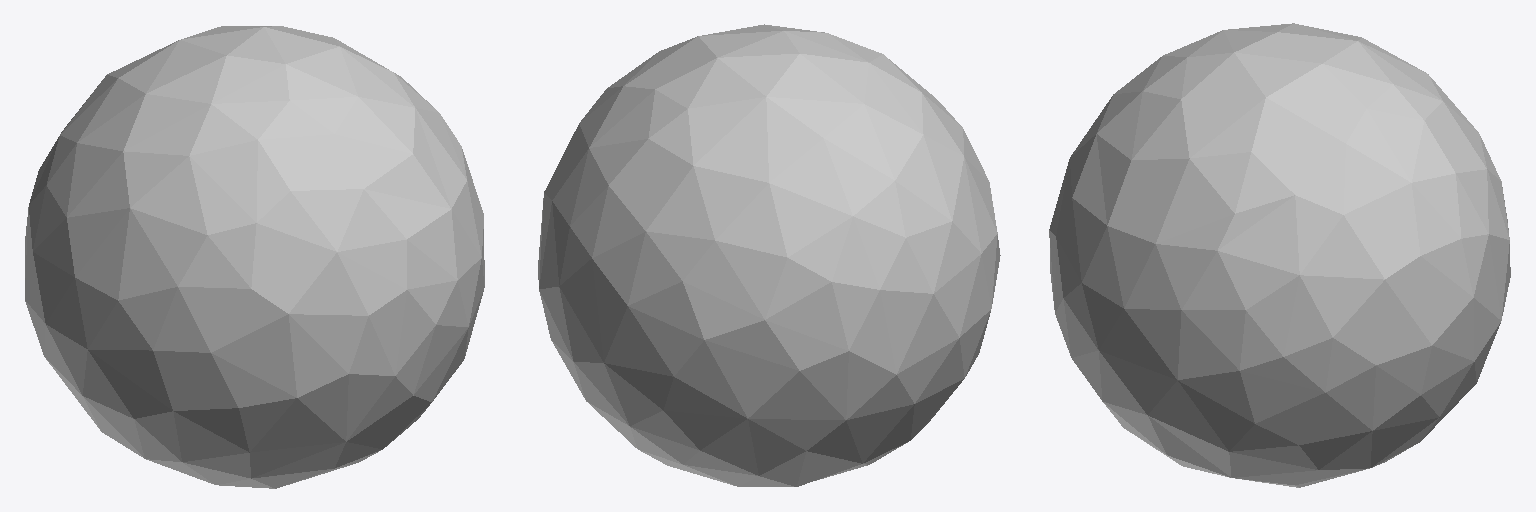
The model's file is Moon.obj.
The picture shows the model from 3 angles: view 1: azimuth 30°, elevation 25°; view 2: azimuth 150°, elevation 25°; view 3: azimuth 270°, elevation 25°; orthographic projection.
Visible parts, largest first — view 1: Moon_3_Cube.012; view 2: Moon_3_Cube.012; view 3: Moon_3_Cube.012.
Boxes of the visible parts, box(x1,y1,x2,y2) form: Moon_3_Cube.012: box(25, 26, 484, 488); Moon_3_Cube.012: box(538, 24, 1000, 486); Moon_3_Cube.012: box(1049, 23, 1510, 487).
Bounding box in the file's own units: 1.32 × 1.32 × 1.32.